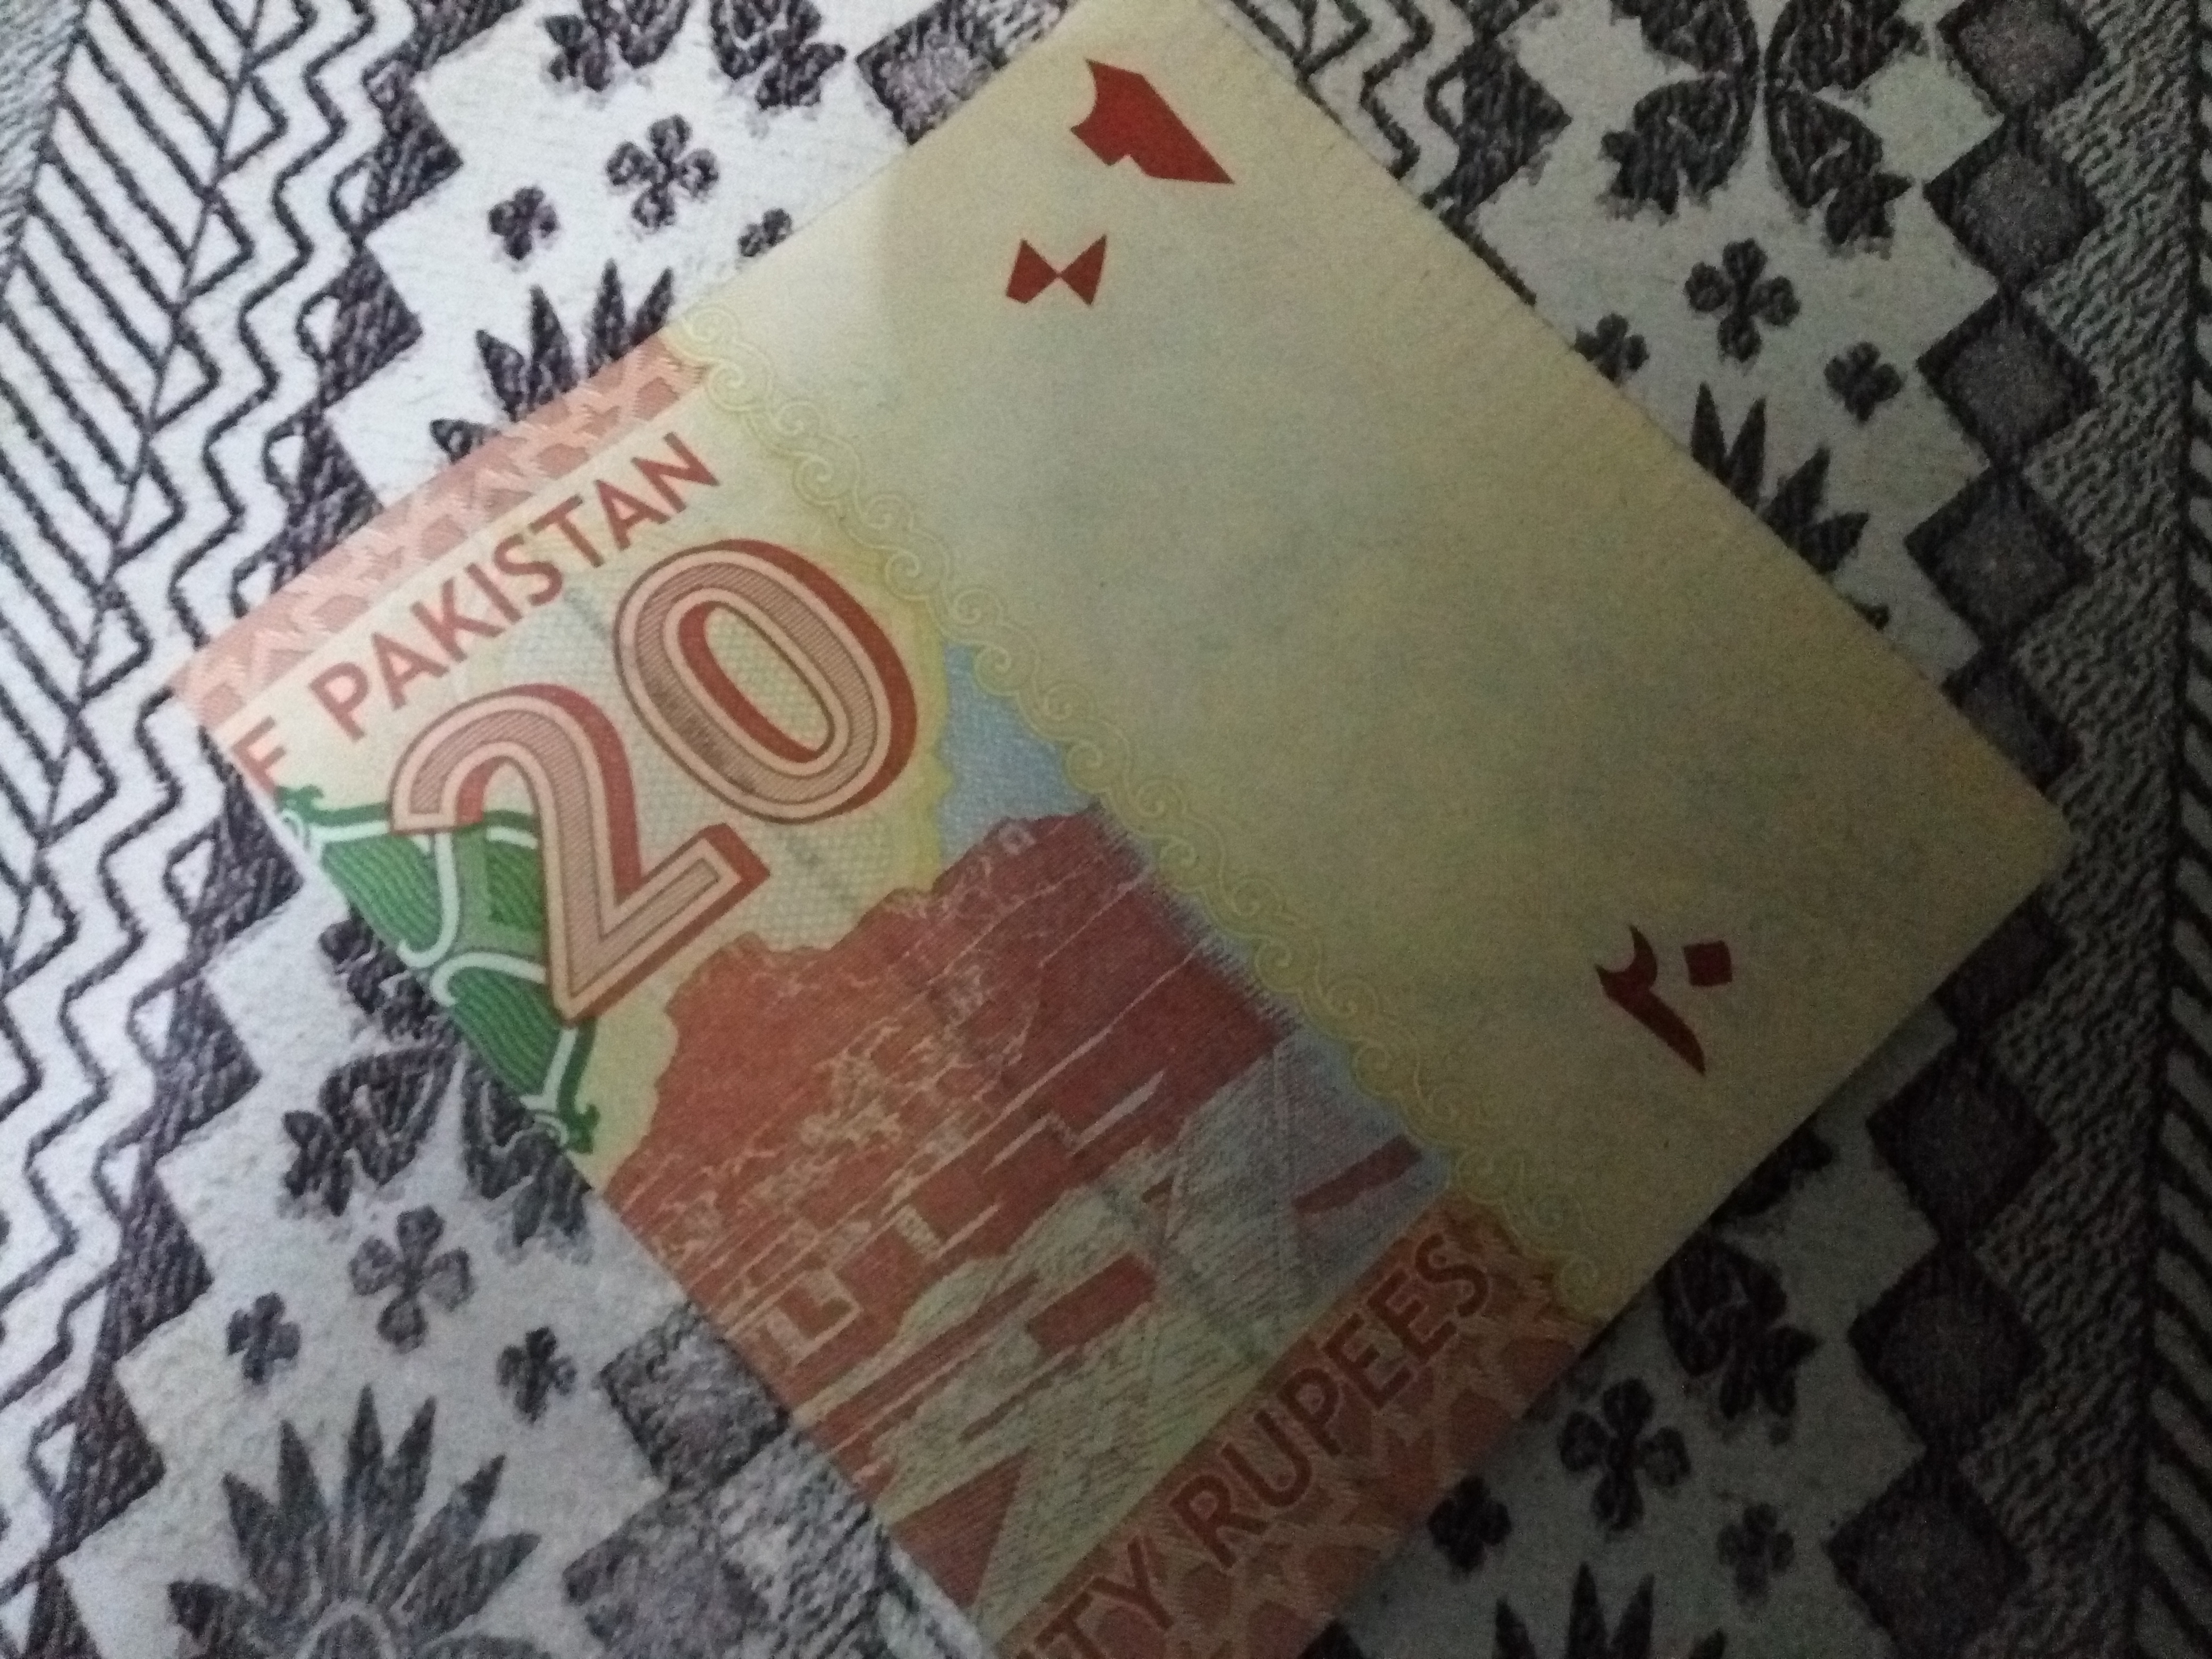20 rupee: (111, 96, 2116, 1645)
